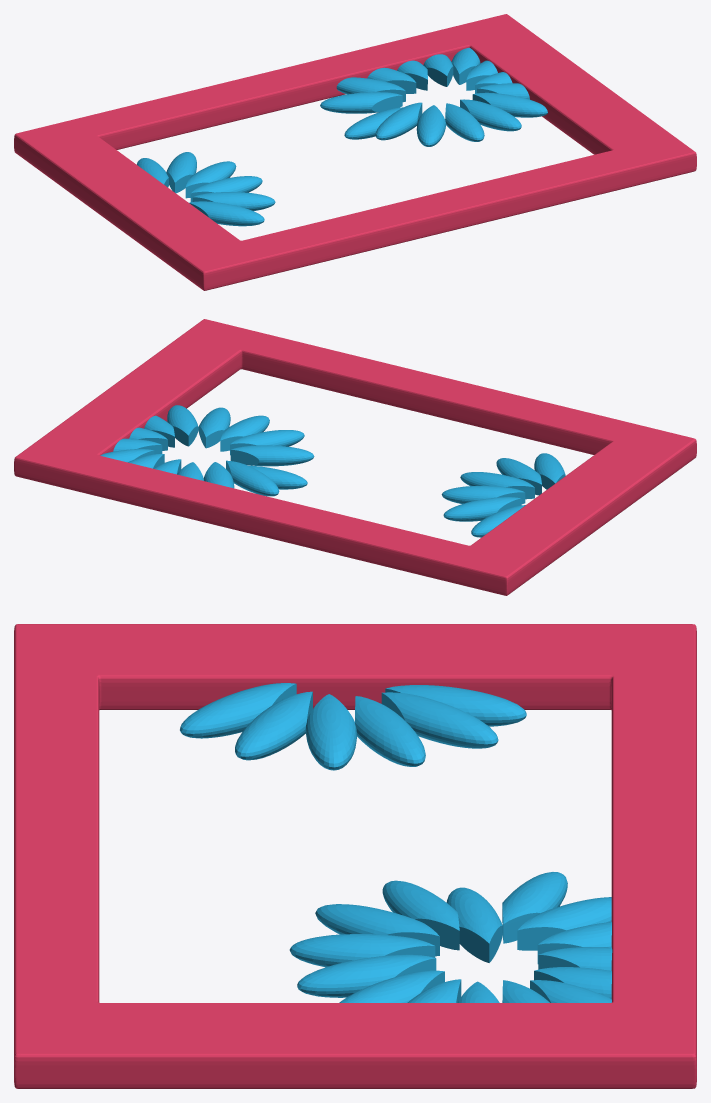
File: agudeza.fbx
3 renders of one model, top to bottom at view 1: azimuth 30°, elevation 25°; view 2: azimuth 150°, elevation 25°; view 3: azimuth 270°, elevation 25°, orthographic. The views are drawn at different scales.
Visible parts, largest first — view 1: Sphere.019; view 2: Sphere.019; view 3: Sphere.019.
Boxes of the visible parts, x1,y1,x2,y2 form: Sphere.019: (14,14,696,290); Sphere.019: (14,319,696,595); Sphere.019: (14,624,696,1088).
Bounding box in the file's own units: 1200 × 65.43 × 800.
